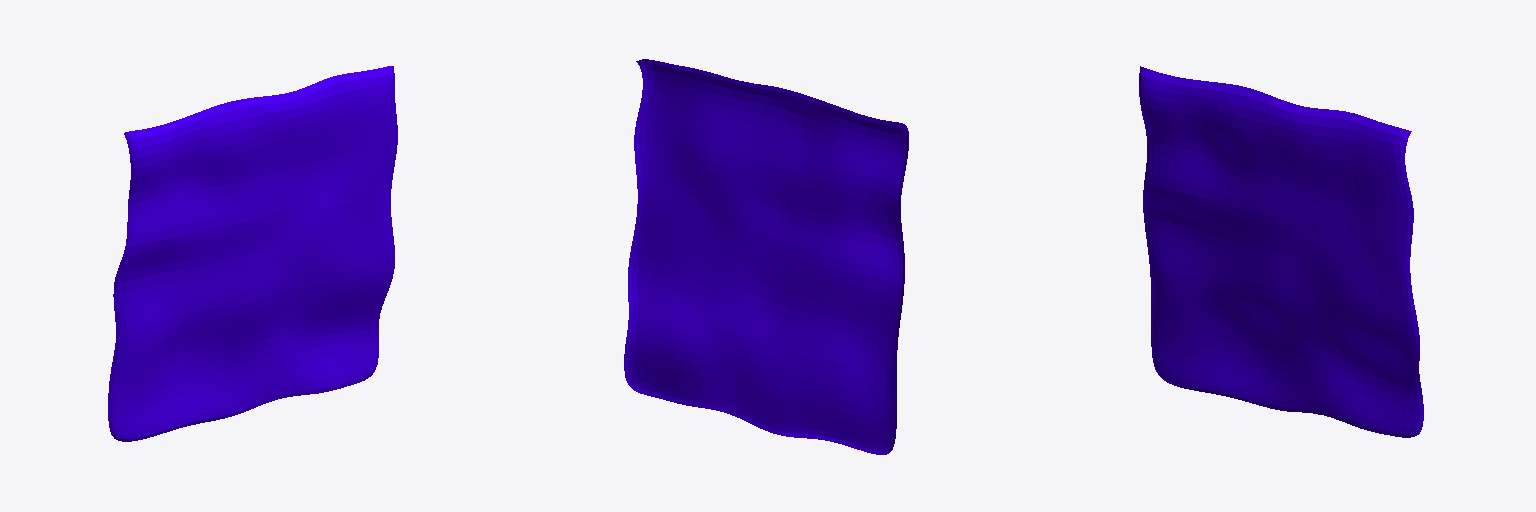
The picture shows the model from 3 angles: view 1: azimuth 30°, elevation 25°; view 2: azimuth 150°, elevation 25°; view 3: azimuth 330°, elevation 25°; orthographic projection.
Parts seen in each view (by area): view 1: ER1; view 2: ER1; view 3: ER1.
Part boxes in pixels (bbox=[...]): ER1: bbox=[108, 66, 397, 441]; ER1: bbox=[624, 59, 908, 454]; ER1: bbox=[1139, 66, 1423, 437].
Size of the model in its own units: 3.08 by 3.51 by 0.4249.